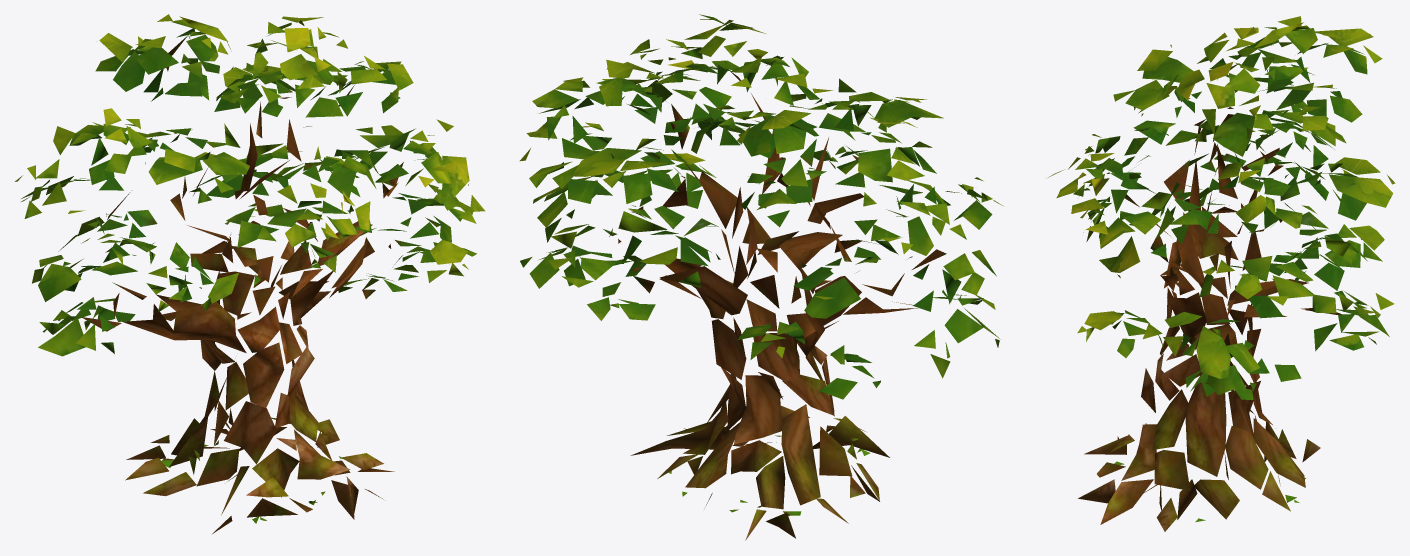
The model's file is oak.glb.
3 views of the same model, side by side, from view 1: azimuth 30°, elevation 25°; view 2: azimuth 150°, elevation 25°; view 3: azimuth 270°, elevation 25° (orthographic). The views are drawn at different scales.
Parts seen in each view (by area): view 1: tripo_node_56676510-7d45-420d-a0e6-0e79ec1b90ca; view 2: tripo_node_56676510-7d45-420d-a0e6-0e79ec1b90ca; view 3: tripo_node_56676510-7d45-420d-a0e6-0e79ec1b90ca.
Part boxes in pixels (x1,y1,x2,y2): tripo_node_56676510-7d45-420d-a0e6-0e79ec1b90ca: [15, 14, 485, 533]; tripo_node_56676510-7d45-420d-a0e6-0e79ec1b90ca: [519, 14, 1002, 540]; tripo_node_56676510-7d45-420d-a0e6-0e79ec1b90ca: [1048, 16, 1395, 531].
Size of the model in its own units: 10.38 by 9.94 by 7.01.
Materials: 1 (1 with a texture image).
